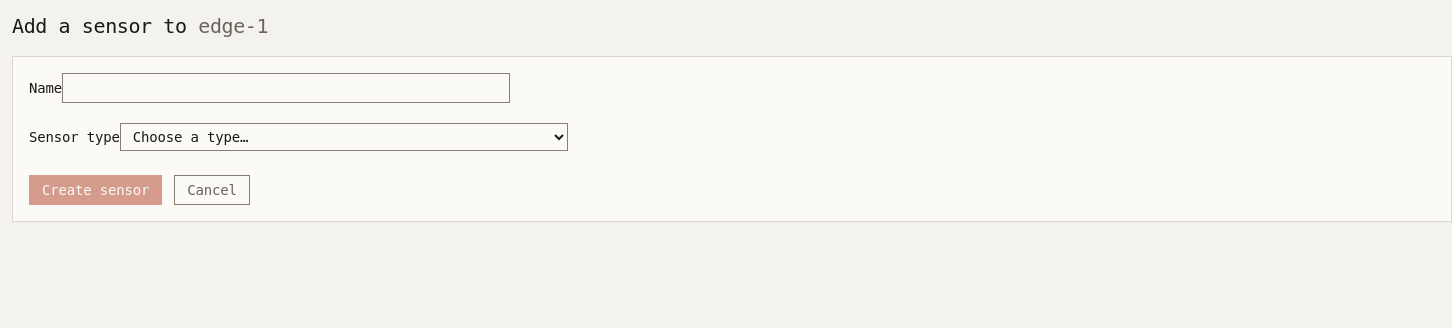
Test: the add-sensor form on a probe that has not reported (U-29) › says the probe has sent no heartbeat yet, as text the field is described by
Select "flow.netflow — Flow" in the dropdown labelled "Sensor type": (344, 137) left=120, top=123, right=568, bottom=151
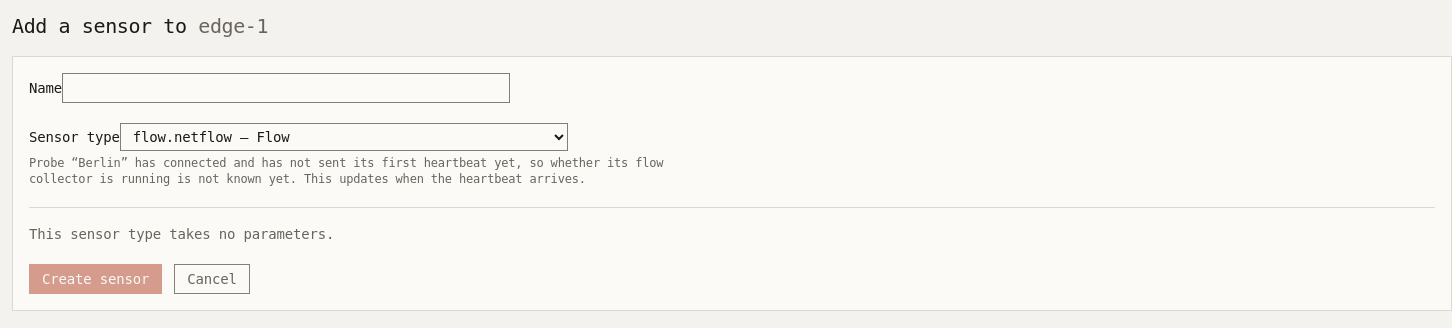
Now the message with id "sensor-type-listener" shows "has not sent its first heartbeat yet", box left=29, top=156, right=663, bottom=186
